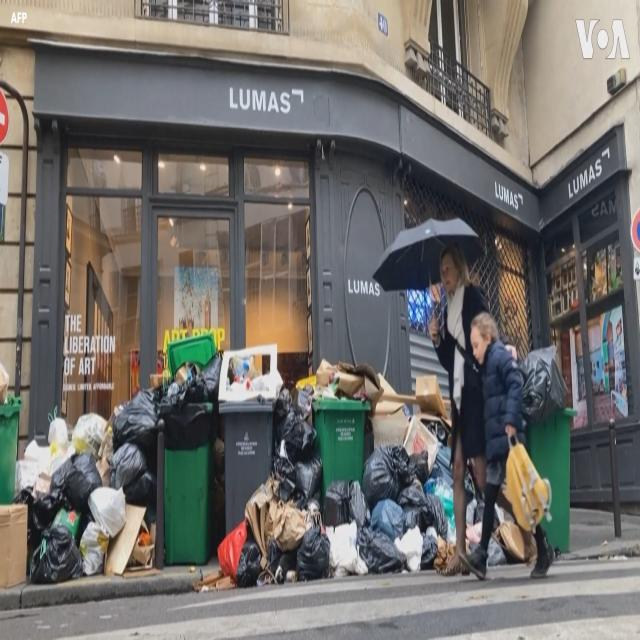high trash: (218, 360, 455, 587), (0, 358, 220, 586)
less trash: (520, 347, 568, 424)
